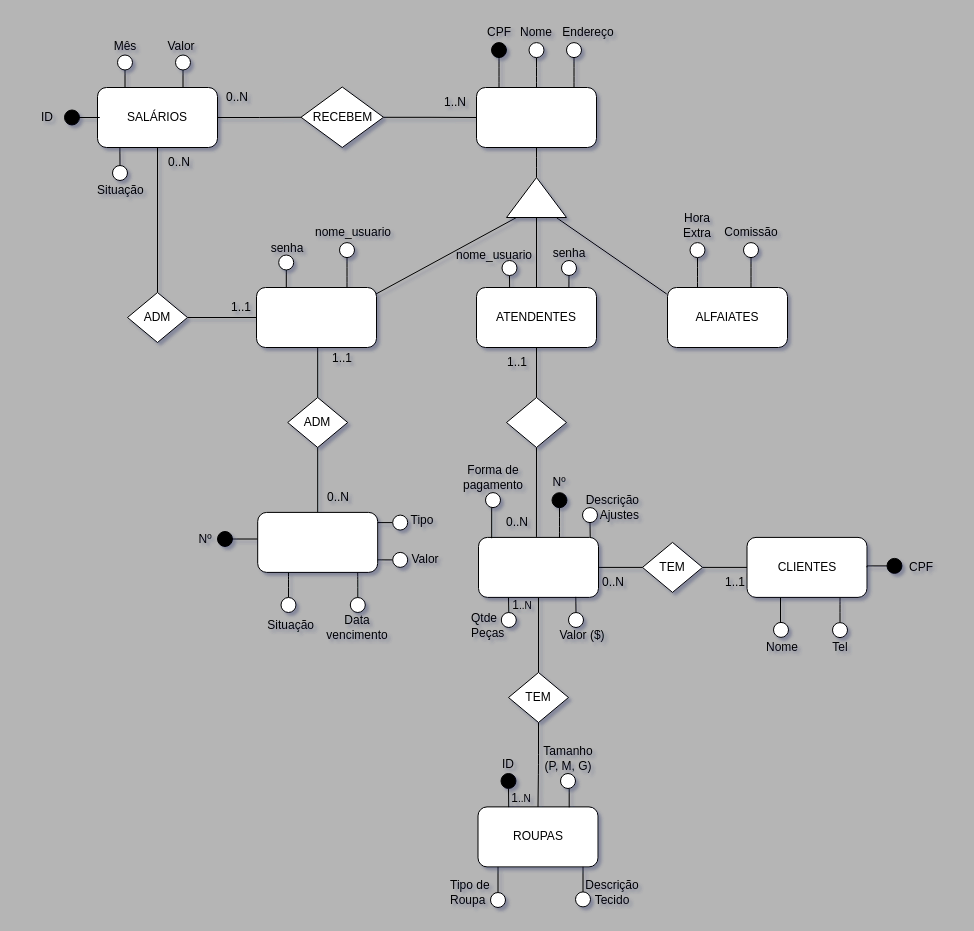
The diagram is 974 pixels wide and 931 high, and some of its shapes have lost their labels. The shapes that lost their labels are listed below. From the top down, each one's centre as x and y in pixels, then its label:
(x=536, y=117): FUNCIONÁRIOS
(x=316, y=317): GERENTE
(x=536, y=422): FAZEM
(x=317, y=541): CONTAS
(x=538, y=566): PEDIDOS
